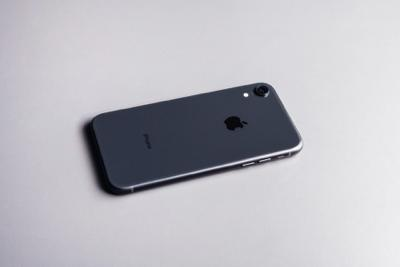cell-phone: (87, 80, 307, 197)
